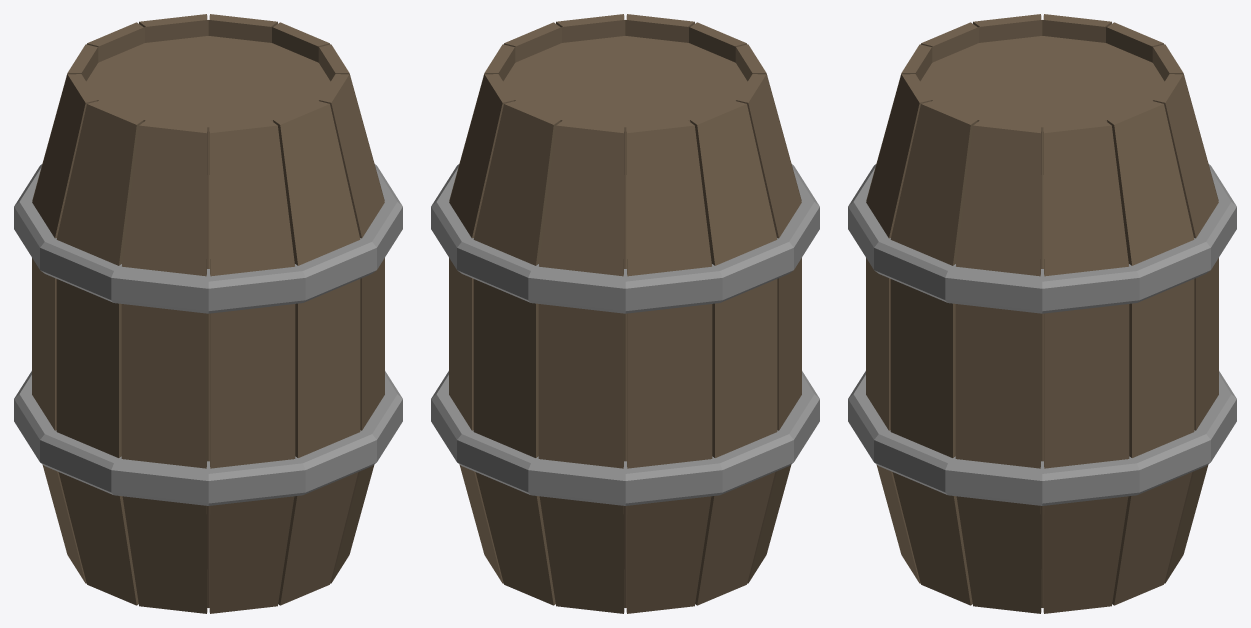
Rendered from victorian_barrel.fbx.
3 renders of one model, left to right at view 1: azimuth 30°, elevation 25°; view 2: azimuth 150°, elevation 25°; view 3: azimuth 270°, elevation 25°, orthographic.
Visible parts, largest first — view 1: Cylinder.003; view 2: Cylinder.003; view 3: Cylinder.003.
Boxes of the visible parts, left/top/right/bottom form: Cylinder.003: left=14, top=14, right=402, bottom=613; Cylinder.003: left=431, top=14, right=819, bottom=613; Cylinder.003: left=848, top=14, right=1236, bottom=613.
Size of the model in its own units: 66 by 90 by 66.
